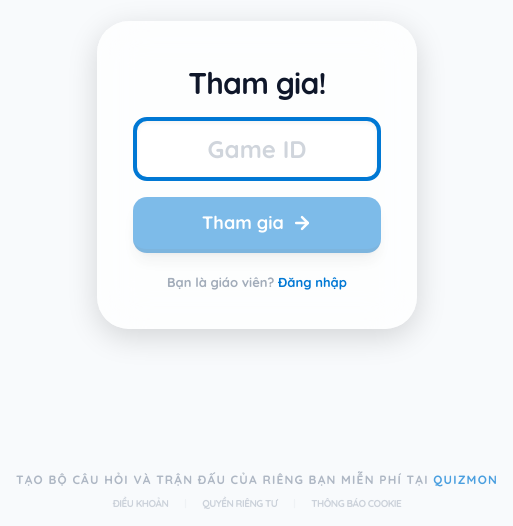
JoinMatch Page › shows generic error message for other API failures
Type "111111" into the field with placeholder "Game ID" at (257, 149), box [133, 117, 381, 181]
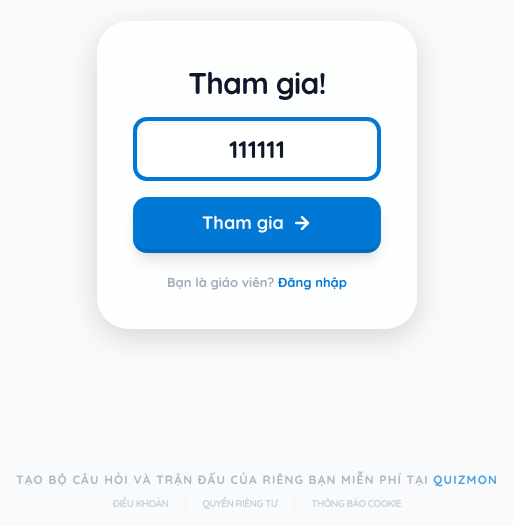
Click the button "Tham gia" at (257, 225), box [133, 197, 381, 253]
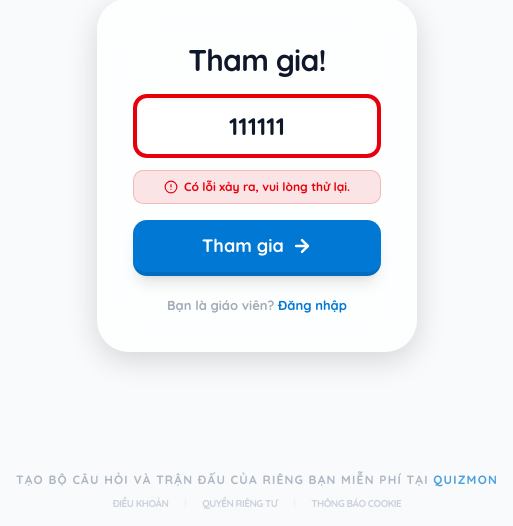
Result: the text "Có lỗi xảy ra, vui lòng thử lại." is shown at [184, 179, 350, 195]
